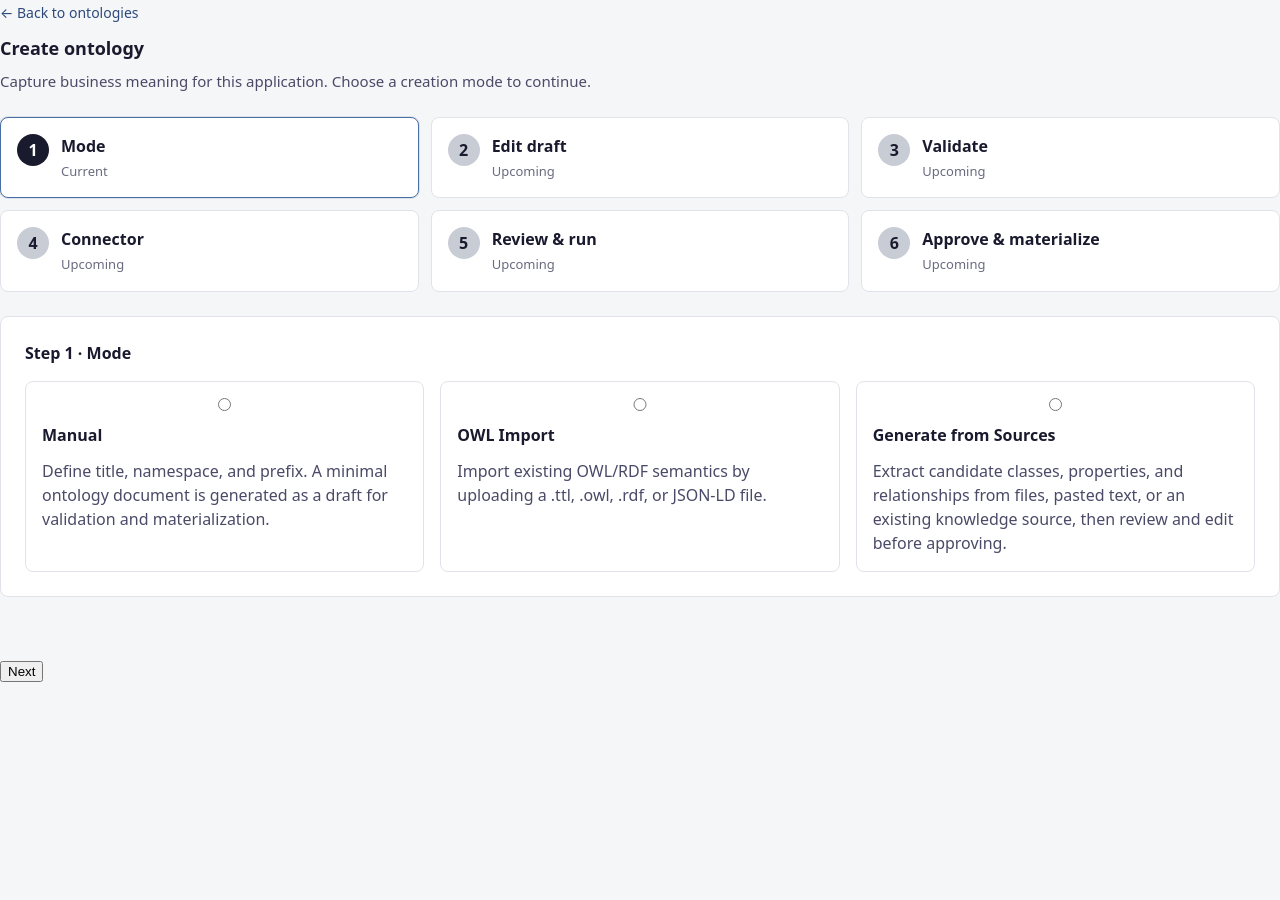
it: OntologyStudioPage · Generate from Sources › selects Generate mode from the mode step
This screenshot has width=1280, height=900.
expect the heading "Create ontology" is shown: met, box [0,36,144,60]
Click the radio button labelled "Generate from Sources" at [1055, 404], box [873,398,1238,410]
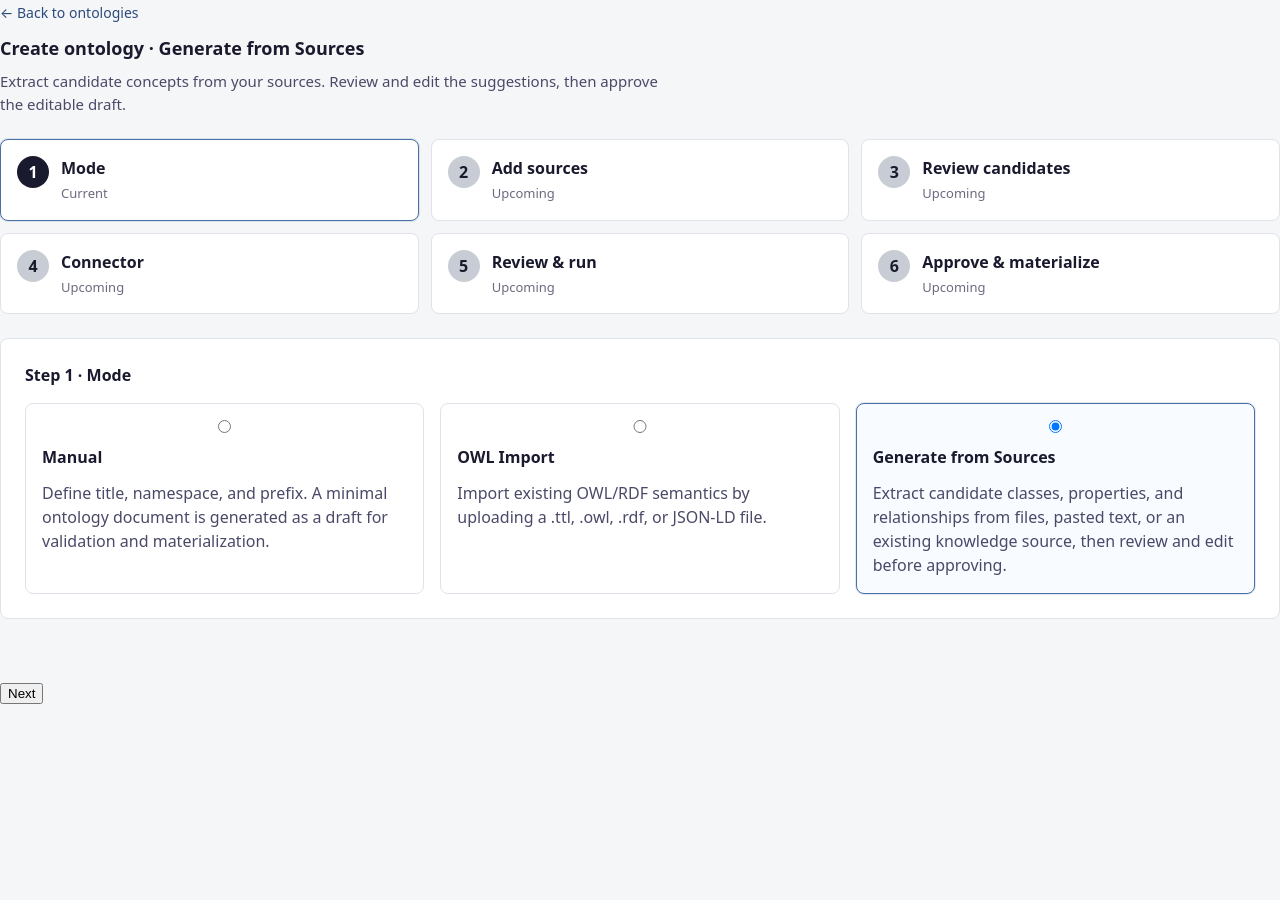
Click the button "Next" at [22, 694], box [0,683,43,704]
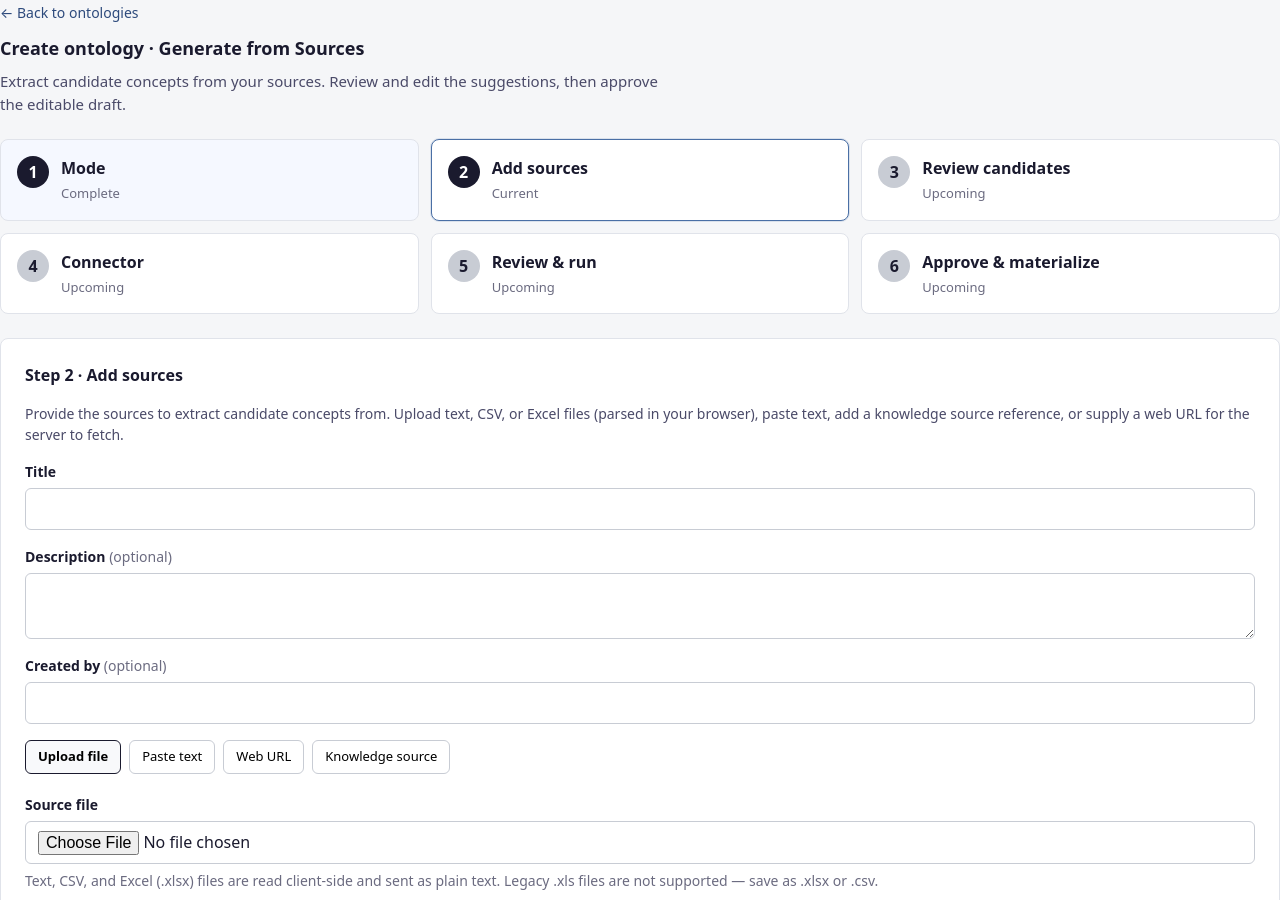
expect the heading "Step 2 · Add sources" is shown: met, box [25,364,183,386]
